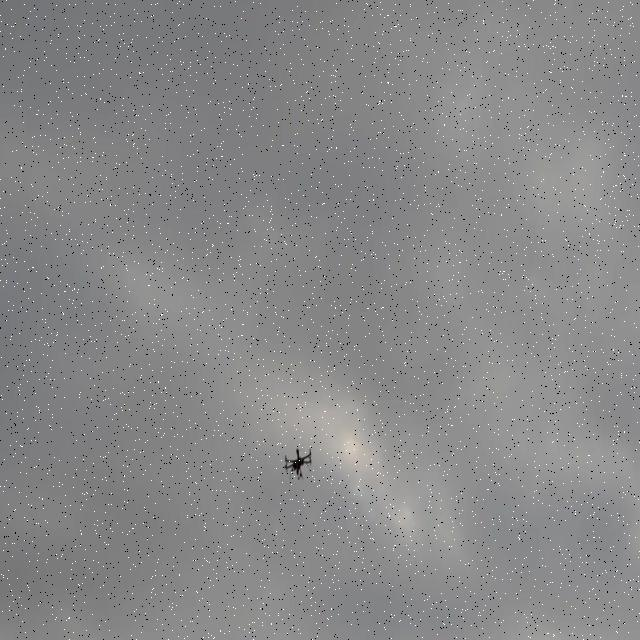UAV: (284, 447, 312, 481)
